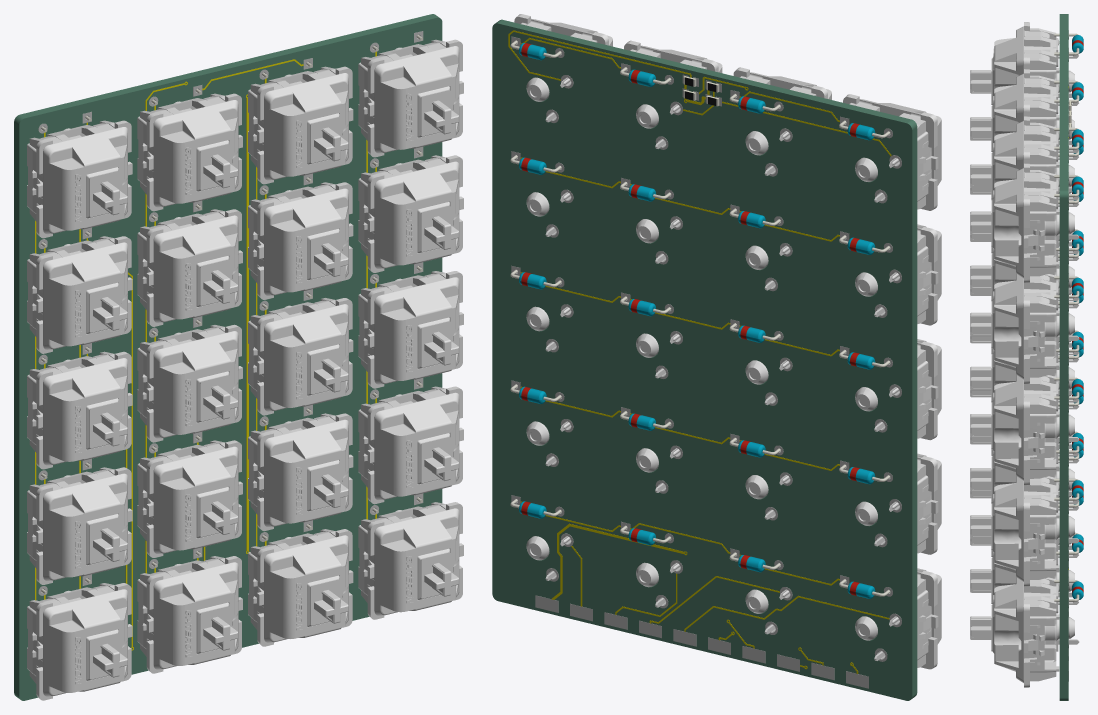
File: matrix.glb
3 views of the same model, side by side, from view 1: azimuth 30°, elevation 25°; view 2: azimuth 150°, elevation 25°; view 3: azimuth 270°, elevation 25° (orthographic). The views are drawn at different scales.
Visible parts, largest first — view 1: o1.48, o1.6.1, o1.7.1, o1.4.1, o1.17.1, o1.14.1, o1.13.1, o1.9.1, o1.2.1, o1.19.1, o1.12.1, o1.3.1 (+11 smaller); view 2: o1.48, o1.46, o1.45, o1.19.1, o1.13.1, o1.1.1, o1.5.1, o1.11.1, o1.17.1, o1.3.1, o1.14.1; view 3: o1.17.1, o1.7.1, o1.12.1, o1.6.1, o1.15.1, o1.48, o1.3.1, o1.19.1, o1.14.1, o1.20.1, o1.8.1, o1.10.1 (+22 smaller).
Part boxes in pixels (left/top/right/bottom): o1.48: left=14, top=14, right=442, bottom=700; o1.6.1: left=358, top=386, right=463, bottom=504; o1.7.1: left=358, top=155, right=463, bottom=272; o1.4.1: left=137, top=440, right=242, bottom=557; o1.17.1: left=358, top=39, right=463, bottom=157; o1.14.1: left=137, top=93, right=242, bottom=211; o1.13.1: left=27, top=467, right=132, bottom=584; o1.9.1: left=137, top=209, right=242, bottom=326; o1.2.1: left=137, top=556, right=242, bottom=673; o1.19.1: left=27, top=120, right=132, bottom=238; o1.12.1: left=358, top=502, right=463, bottom=619; o1.3.1: left=248, top=66, right=353, bottom=184; o1.48: left=492, top=19, right=917, bottom=700; o1.46: left=511, top=36, right=901, bottom=688; o1.45: left=508, top=30, right=891, bottom=673; o1.19.1: left=843, top=94, right=941, bottom=210; o1.13.1: left=855, top=453, right=941, bottom=554; o1.1.1: left=855, top=568, right=941, bottom=669; o1.5.1: left=855, top=224, right=941, bottom=325; o1.11.1: left=855, top=339, right=941, bottom=440; o1.17.1: left=514, top=14, right=612, bottom=122; o1.3.1: left=624, top=40, right=722, bottom=148; o1.14.1: left=733, top=67, right=831, bottom=175; o1.17.1: left=970, top=163, right=1079, bottom=282; o1.7.1: left=970, top=273, right=1079, bottom=383; o1.12.1: left=970, top=577, right=1079, bottom=687; o1.6.1: left=970, top=476, right=1079, bottom=586; o1.15.1: left=970, top=374, right=1079, bottom=485; o1.48: left=1059, top=14, right=1068, bottom=700; o1.3.1: left=970, top=116, right=1078, bottom=199; o1.19.1: left=970, top=22, right=1078, bottom=104; o1.14.1: left=970, top=69, right=1078, bottom=151; o1.20.1: left=970, top=341, right=1079, bottom=401; o1.8.1: left=970, top=239, right=1078, bottom=300; o1.10.1: left=970, top=442, right=1078, bottom=502.
Size of the model in its own units: 0.0734 by 0.096 by 0.0194.
